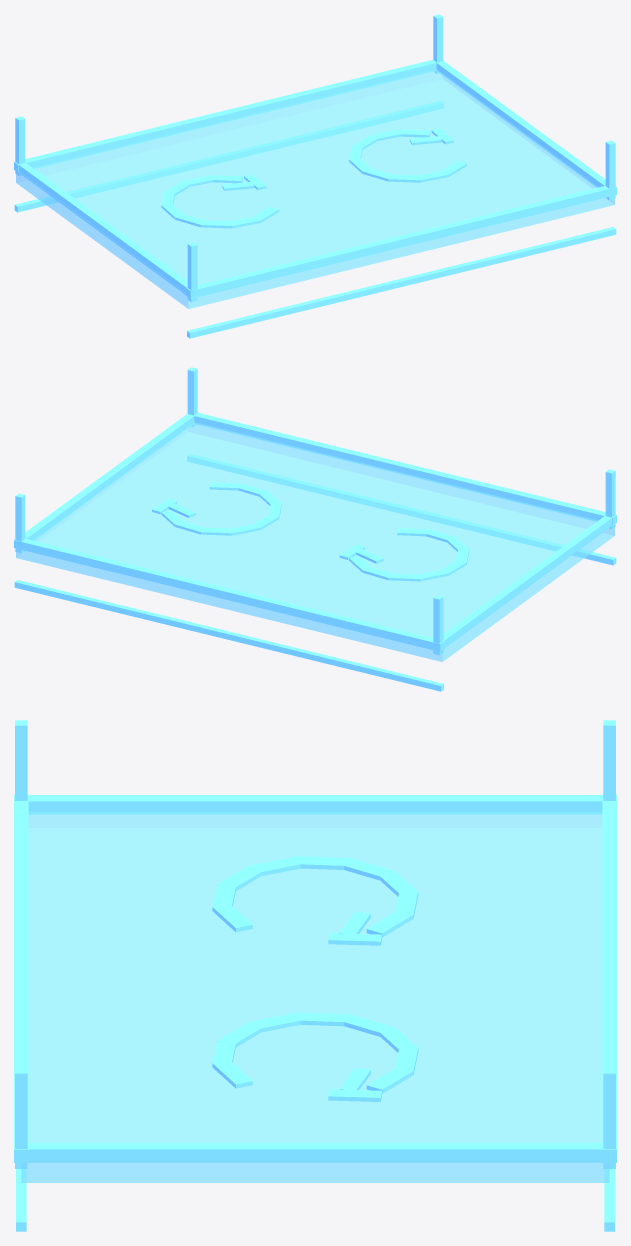
The model's file is Deck_Ghost_Rotation_v2.glb.
The picture shows the model from 3 angles, top to bottom: view 1: azimuth 30°, elevation 25°; view 2: azimuth 150°, elevation 25°; view 3: azimuth 270°, elevation 25°; orthographic projection. The views are drawn at different scales.
Visible parts, largest first — view 1: Deck_Ghost_Rotation_v2; view 2: Deck_Ghost_Rotation_v2; view 3: Deck_Ghost_Rotation_v2.
Boxes of the visible parts, bbox=[...] form: Deck_Ghost_Rotation_v2: bbox=[14, 14, 616, 338]; Deck_Ghost_Rotation_v2: bbox=[14, 367, 616, 691]; Deck_Ghost_Rotation_v2: bbox=[14, 720, 616, 1231].
Bounding box in the file's own units: 4 × 0.825 × 2.87.
